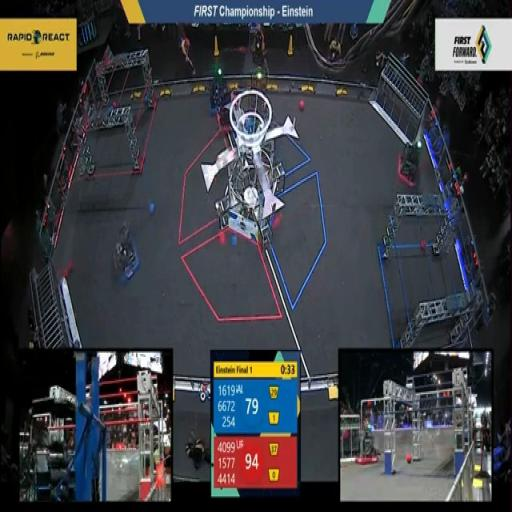robot: (104, 219, 142, 292), (394, 130, 428, 189), (210, 86, 242, 134), (206, 61, 232, 115)
